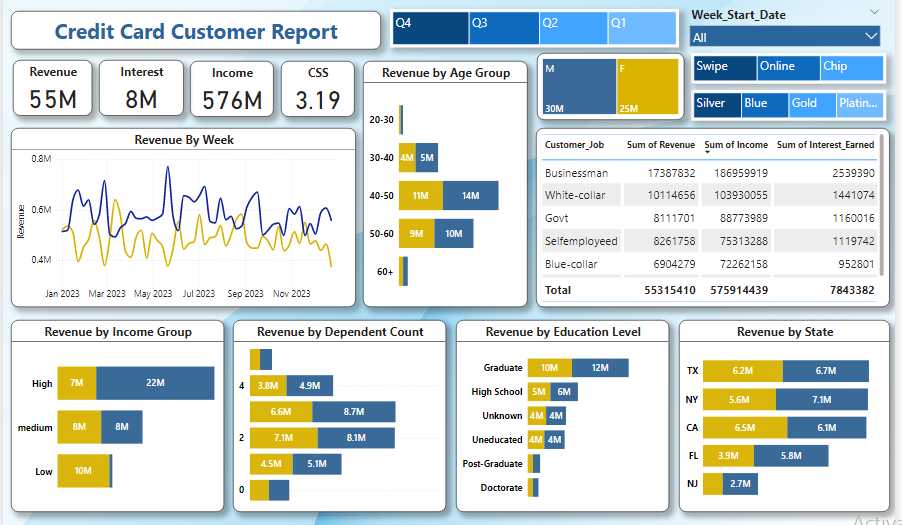

The dashboard page shown, as its layout file describes it:
{"tool":"powerbi","page":{"name":"CC Customer","canvas":[1600,1000],"ordinal":2},"visuals":[{"type":"textbox","box":[13.8,70.9,663.4,68.9],"z":0},{"type":"barChart","title":"Revenue by Income Group","fields":{"Y":["Sum(credit_card.Revenue)"],"Category":["customer.income_group"],"Series":["customer.Gender"]},"box":[13.8,626,381.9,344.5],"z":1000},{"type":"tableEx","fields":{"Values":["customer.Customer_Job","Sum(credit_card.Revenue)","Sum(customer.Income)","Sum(credit_card.Interest_Earned)"]},"box":[954.7,281.5,633.9,320.9],"z":2000},{"type":"card","title":"Revenue","fields":{"Values":["Sum(credit_card.Revenue)"]},"box":[17.7,159.4,141.7,100.4],"z":3000},{"type":"card","title":"Income","fields":{"Values":["Sum(customer.Income)"]},"box":[334.6,161.4,149.6,100.4],"z":4000},{"type":"card","title":"Interest","fields":{"Values":["Sum(credit_card.Interest_Earned)"]},"box":[171.3,159.4,151.6,100.4],"z":5000},{"type":"card","title":"CSS","fields":{"Values":["Avg(customer.Cust_Satisfaction_Score)"]},"box":[498,161.4,131.9,100.4],"z":6000},{"type":"slicer","title":"Date","fields":{"Values":["credit_card.Week_Start_Date"]},"box":[1220.5,57.1,362.2,94.5],"z":7000},{"type":"treemap","fields":{"Group":["credit_card.Qtr"],"Values":["Avg(credit_card.Client_Num)"]},"box":[692.9,68.9,517.7,68.9],"z":8000},{"type":"treemap","fields":{"Group":["credit_card.Use Chip"],"Values":["Avg(customer.Client_Num)"]},"box":[1232.3,147.6,350.4,55.1],"z":9000},{"type":"treemap","fields":{"Group":["credit_card.Card_Category"],"Values":["Avg(customer.Client_Num)"]},"box":[1232.3,212.6,350.4,55.1],"z":10000},{"type":"lineChart","title":"Revenue By Week","fields":{"Y":["Sum(credit_card.Revenue)"],"Series":["customer.Gender"],"Category":["credit_card.Week_Start_Date.Variation.Date Hierarchy.Year","credit_card.Week_Start_Date.Variation.Date Hierarchy.Month","credit_card.Week_Start_Date.Variation.Date Hierarchy.Day"]},"box":[13.8,281.5,618.1,320.9],"z":11000},{"type":"treemap","fields":{"Group":["customer.Gender"],"Values":["Sum(credit_card.Revenue)"]},"box":[956.7,147.6,263.8,120.1],"z":12000},{"type":"barChart","title":"Revenue by Age Group","fields":{"Y":["Sum(credit_card.Revenue)"],"Category":["customer.Age_group"],"Series":["customer.Gender"]},"box":[645.7,161.4,295.3,440.9],"z":13000},{"type":"barChart","title":"Revenue by Education Level","fields":{"Y":["Sum(credit_card.Revenue)"],"Category":["customer.Education_Level"],"Series":["customer.Gender"]},"box":[811,626,381.9,344.5],"z":14000},{"type":"barChart","title":"Revenue by Dependent Count","fields":{"Y":["Sum(credit_card.Revenue)"],"Category":["customer.Dependent_Count"],"Series":["customer.Gender"]},"box":[411.4,626,381.9,344.5],"z":15000},{"type":"barChart","title":"Revenue by State","fields":{"Y":["Sum(credit_card.Revenue)"],"Category":["customer.state_cd"],"Series":["customer.Gender"]},"box":[1210.6,626,378,344.5],"z":16000}]}

Visuals, with their boxes in screenshot pixels (x1, y1, x2, y2):
textbox: box(10, 9, 380, 47)
"Revenue by Income Group" barChart: box(10, 319, 223, 511)
tableEx - customer.Customer_Job x Sum(credit_card.Revenue): box(535, 126, 888, 305)
"Revenue" card: box(12, 58, 91, 114)
"Income" card: box(189, 59, 272, 115)
"Interest" card: box(98, 58, 182, 114)
"CSS" card: box(280, 59, 354, 115)
"Date" slicer: box(683, 1, 885, 54)
treemap - credit_card.Qtr x Avg(credit_card.Client_Num): box(389, 8, 678, 46)
treemap - credit_card.Use Chip x Avg(customer.Client_Num): box(690, 52, 885, 83)
treemap - credit_card.Card_Category x Avg(customer.Client_Num): box(690, 88, 885, 119)
"Revenue By Week" lineChart: box(10, 126, 355, 305)
treemap - customer.Gender x Sum(credit_card.Revenue): box(536, 52, 683, 119)
"Revenue by Age Group" barChart: box(362, 59, 527, 305)
"Revenue by Education Level" barChart: box(455, 319, 668, 511)
"Revenue by Dependent Count" barChart: box(232, 319, 445, 511)
"Revenue by State" barChart: box(678, 319, 888, 511)
